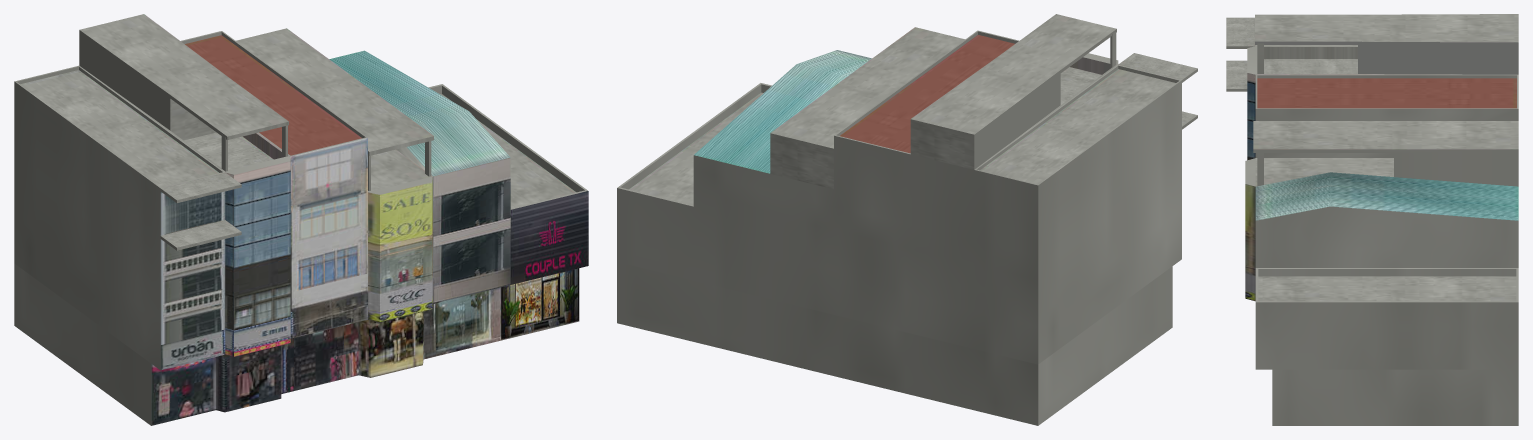
3 views of the same model, side by side, from view 1: azimuth 30°, elevation 25°; view 2: azimuth 150°, elevation 25°; view 3: azimuth 270°, elevation 25° (orthographic). The views are drawn at different scales.
Parts seen in each view (by area): view 1: 5c4eeedb5d71a6d8a4bc0e64.001; view 2: 5c4eeedb5d71a6d8a4bc0e64.001; view 3: 5c4eeedb5d71a6d8a4bc0e64.001.
Boxes of the visible parts, x1,y1,x2,y2 form: 5c4eeedb5d71a6d8a4bc0e64.001: (14,14,588,425); 5c4eeedb5d71a6d8a4bc0e64.001: (617,14,1197,425); 5c4eeedb5d71a6d8a4bc0e64.001: (1226,14,1518,425).
Size of the model in its own units: 26.57 by 16.62 by 17.46.
1 material, 1 textured.
